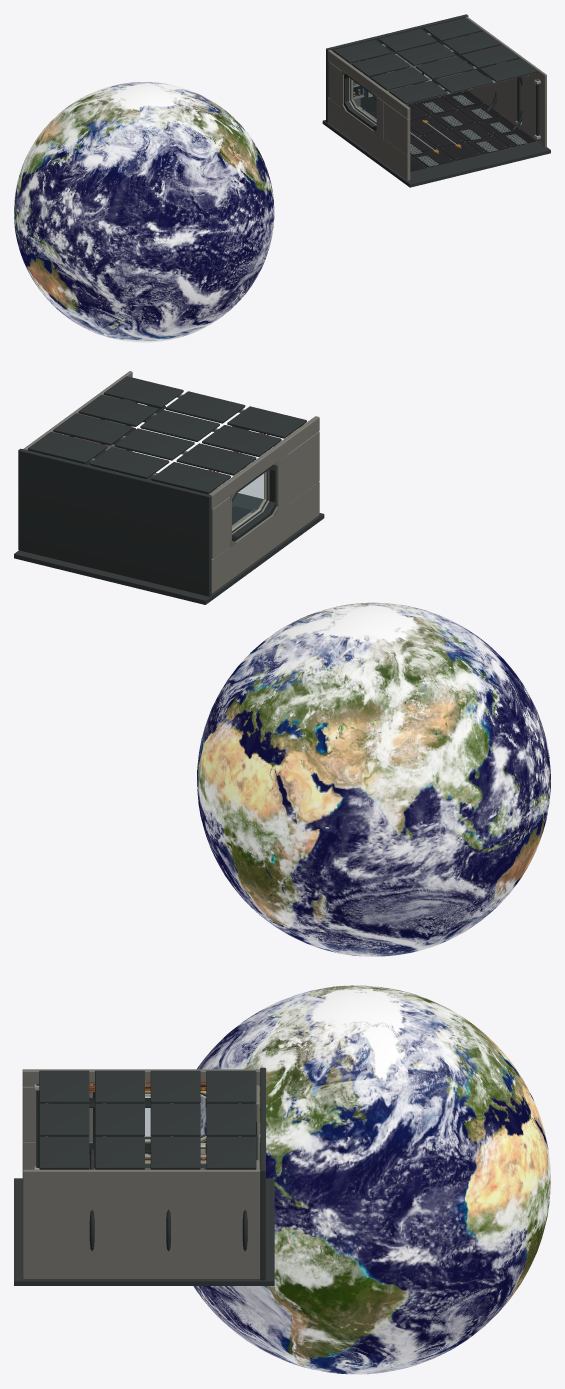
File: shell-standard.glb
The picture shows the model from 3 angles, top to bottom: view 1: azimuth 30°, elevation 25°; view 2: azimuth 150°, elevation 25°; view 3: azimuth 270°, elevation 25°; orthographic projection. The views are drawn at different scales.
Visible parts, largest first — view 1: shell__NASA Earth Observatory globe, shell__Coated pressure frame, shell__Graphite enamel, shell__Anodized deck alloy, shell__Satin aluminium, shell__Recess and gasket, shell__Recessed titanium panels, shell__Thin optical glazing; view 2: shell__NASA Earth Observatory globe, shell__Coated pressure frame, shell__Graphite enamel, shell__Thin optical glazing; view 3: shell__NASA Earth Observatory globe, shell__Graphite enamel, shell__Coated pressure frame.
Part boxes in pixels (x1,y1,x2,y2): shell__NASA Earth Observatory globe: (14, 82, 274, 342); shell__Coated pressure frame: (322, 14, 550, 187); shell__Graphite enamel: (328, 16, 546, 180); shell__Anodized deck alloy: (370, 90, 535, 171); shell__Satin aluminium: (344, 33, 540, 166); shell__Recess and gasket: (350, 36, 527, 167); shell__Recessed titanium panels: (350, 36, 526, 166); shell__Thin optical glazing: (352, 80, 376, 121); shell__NASA Earth Observatory globe: (197, 602, 550, 956); shell__Coated pressure frame: (14, 376, 324, 604); shell__Graphite enamel: (23, 371, 319, 593); shell__Thin optical glazing: (232, 473, 264, 528); shell__NASA Earth Observatory globe: (193, 985, 550, 1374); shell__Graphite enamel: (22, 1069, 260, 1279); shell__Coated pressure frame: (14, 1067, 274, 1285).
Size of the model in its own units: 20.15 by 12.67 by 15.45.
Materials: 20 (2 with a texture image).
